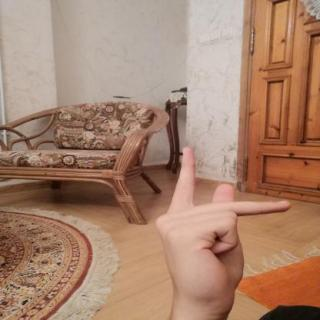DHAA: (146, 140, 299, 304)
